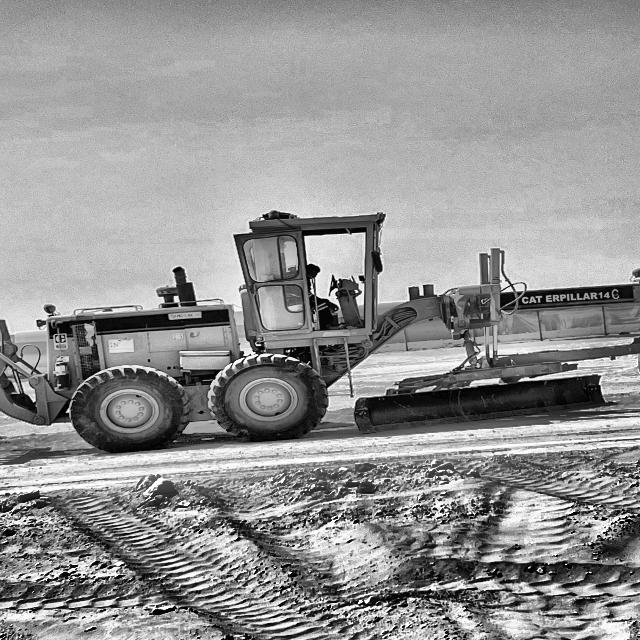buldozerpayloadergrader: (0, 194, 640, 498)
